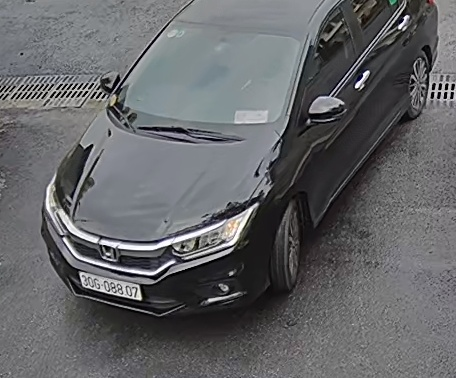vehicle plate: (75, 269, 148, 303)
